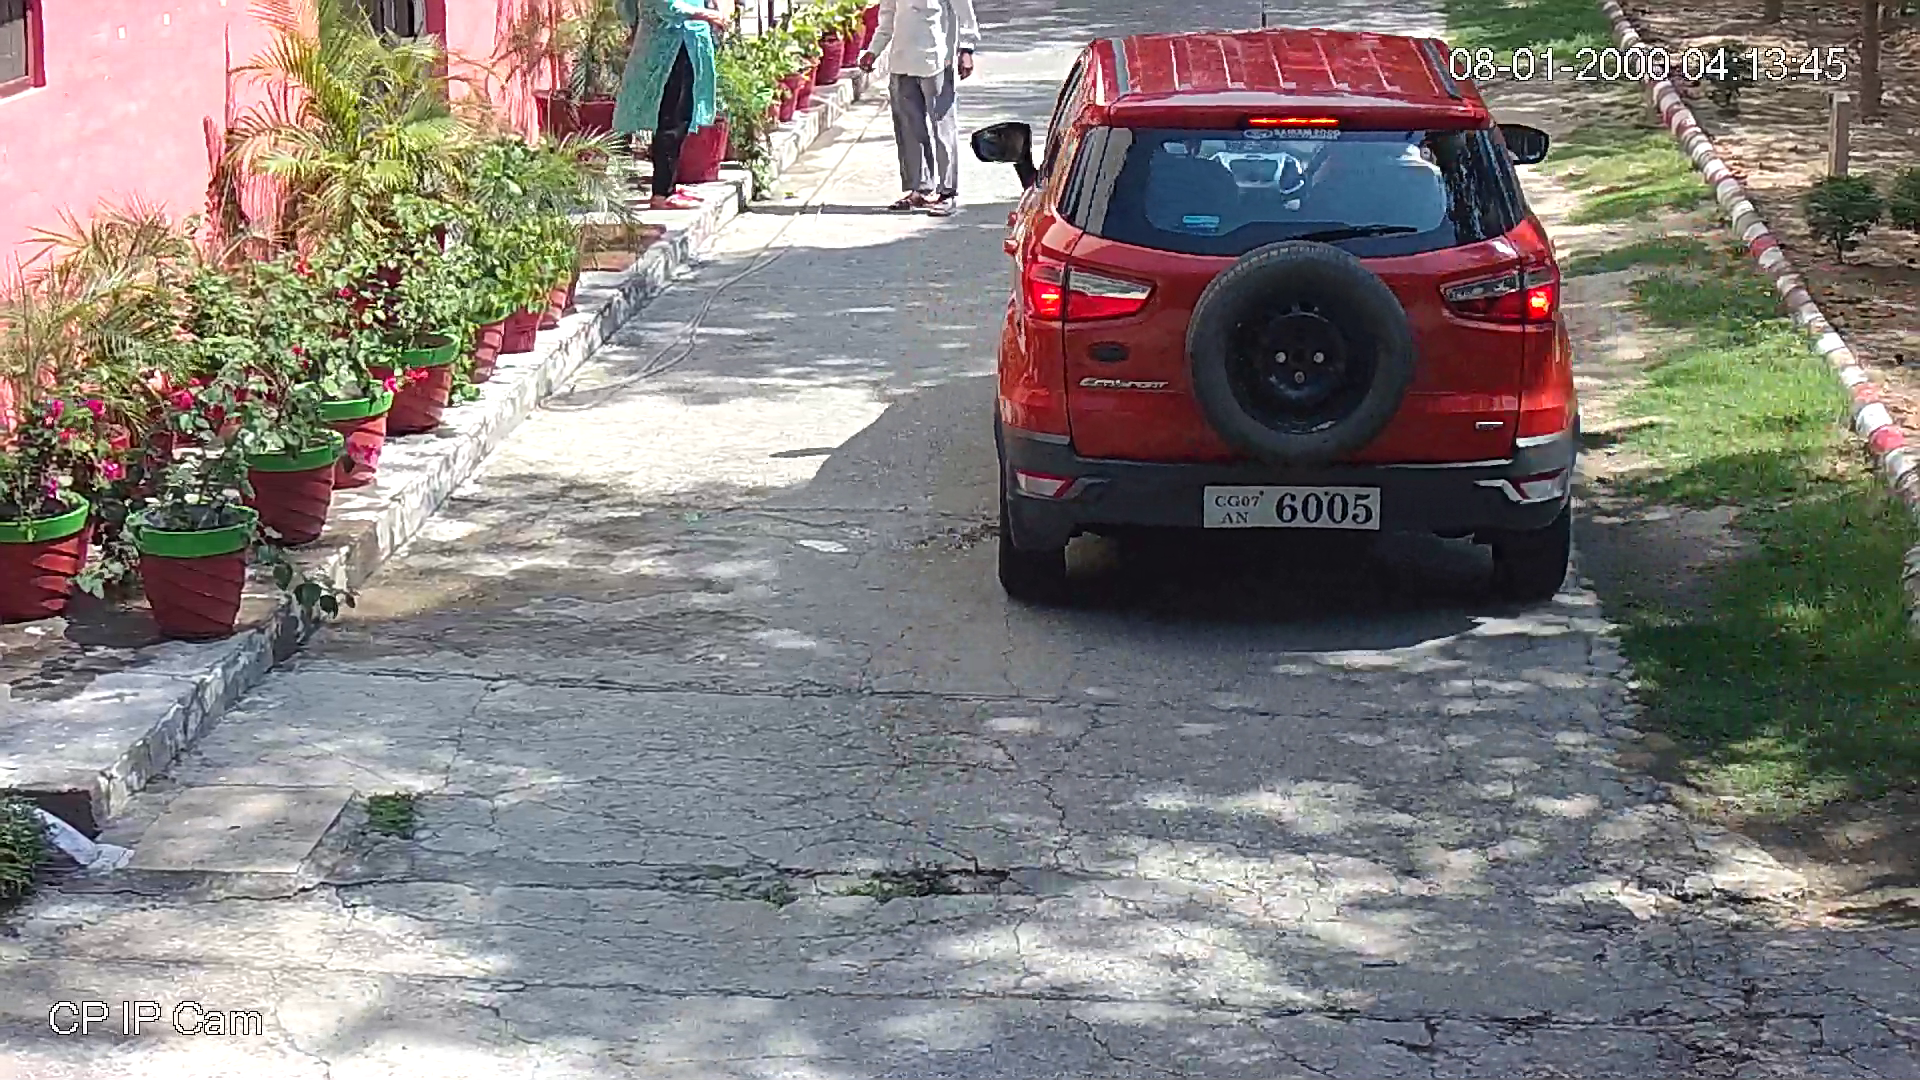plate: (1197, 478, 1387, 538)
